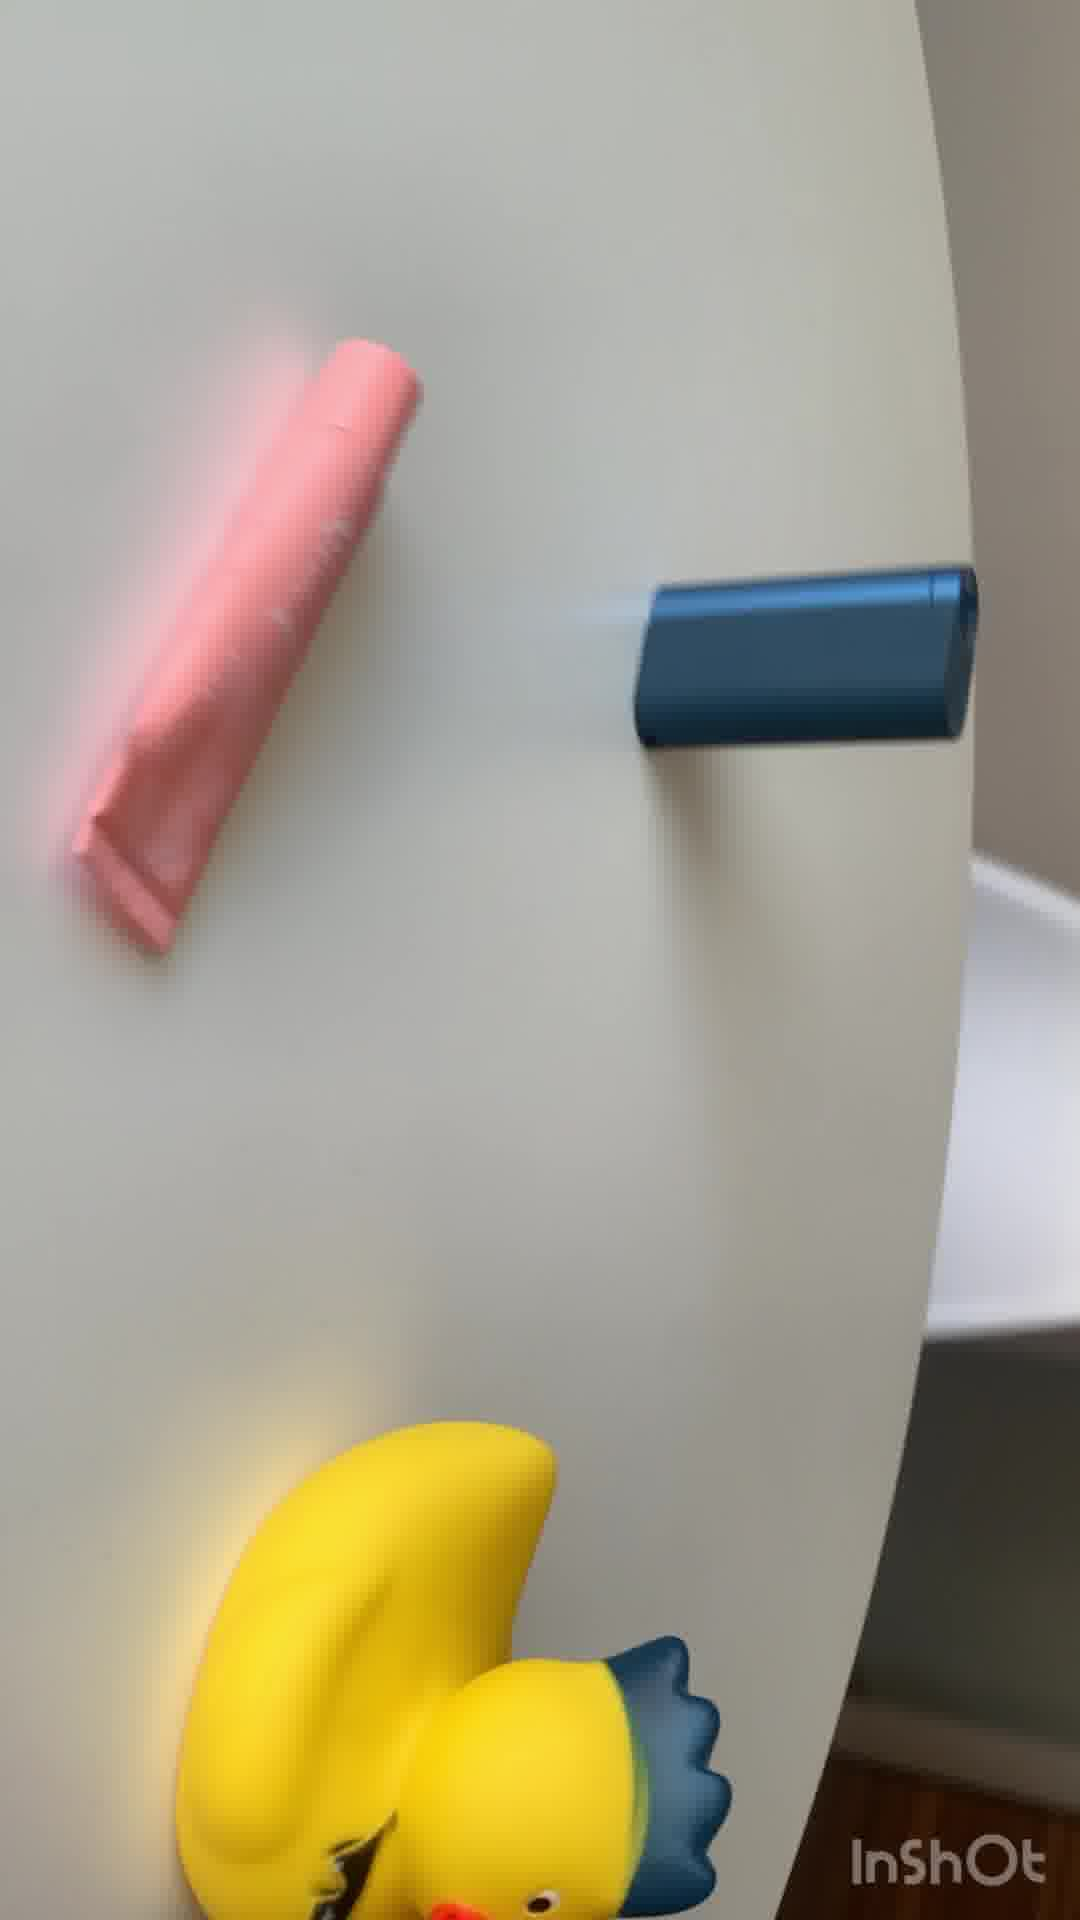duck: (177, 1416, 733, 1920)
glo: (636, 568, 975, 749)
lip balm: (74, 339, 423, 963)
